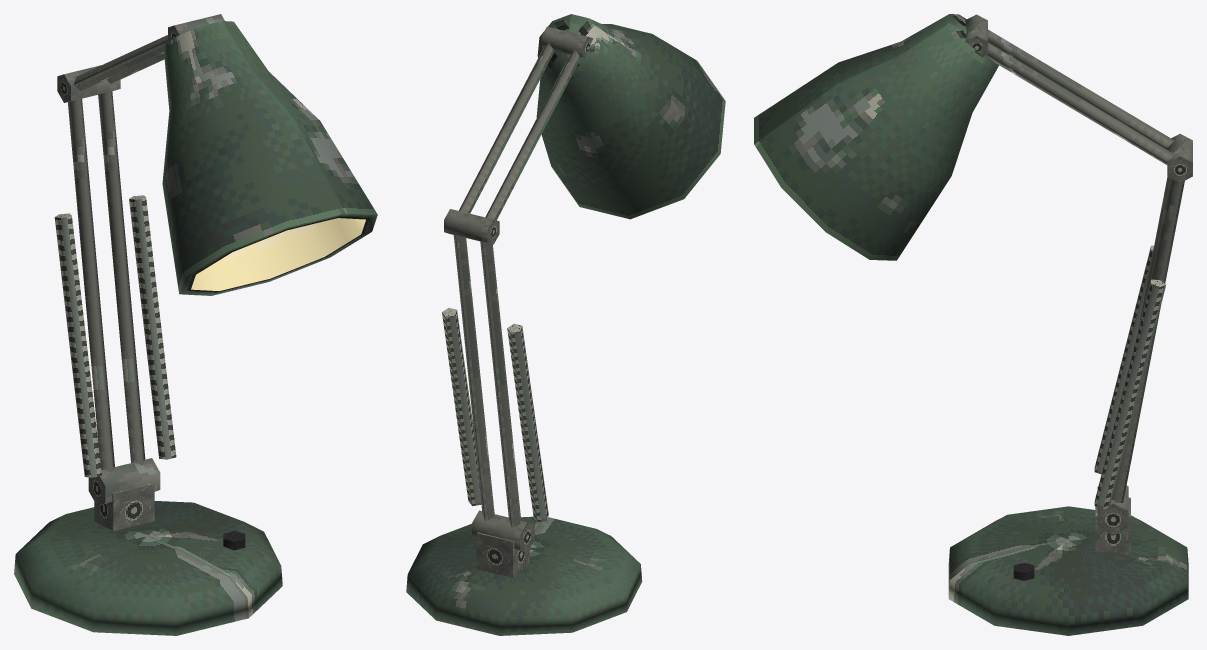
File: lamp_desk.glb
3 views of the same model, side by side, from view 1: azimuth 30°, elevation 25°; view 2: azimuth 150°, elevation 25°; view 3: azimuth 270°, elevation 25° (orthographic). The views are drawn at different scales.
Visible parts, largest first — view 1: lamp_desk; view 2: lamp_desk; view 3: lamp_desk.
Boxes of the visible parts, <box> form: lamp_desk: <box>14,14,377,635</box>; lamp_desk: <box>406,14,725,635</box>; lamp_desk: <box>754,14,1192,635</box>.
Bounding box in the file's own units: 0.17 × 0.4188 × 0.2954.
Materials: 2 (2 with a texture image).
